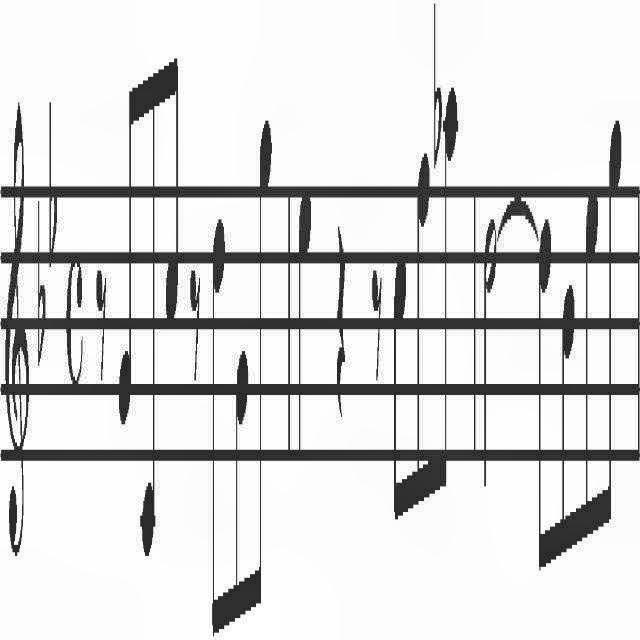Bass-clef: (3, 103, 30, 561)
Bemol: (433, 2, 443, 174), (37, 198, 47, 368), (48, 103, 58, 271)
Eighth-note: (251, 113, 273, 634), (138, 49, 158, 563), (600, 110, 622, 550), (440, 82, 460, 538), (410, 148, 430, 538), (578, 178, 598, 560), (210, 208, 226, 640), (555, 284, 575, 604), (536, 211, 552, 601), (160, 41, 180, 336), (118, 83, 134, 430), (231, 336, 249, 640), (392, 246, 408, 544)
Eighth-rest: (96, 254, 108, 390), (371, 264, 382, 388), (191, 258, 201, 389)
Half-note: (483, 212, 497, 508)
Quarter-note: (296, 185, 312, 465)
Quarter-rest: (336, 210, 348, 420)
